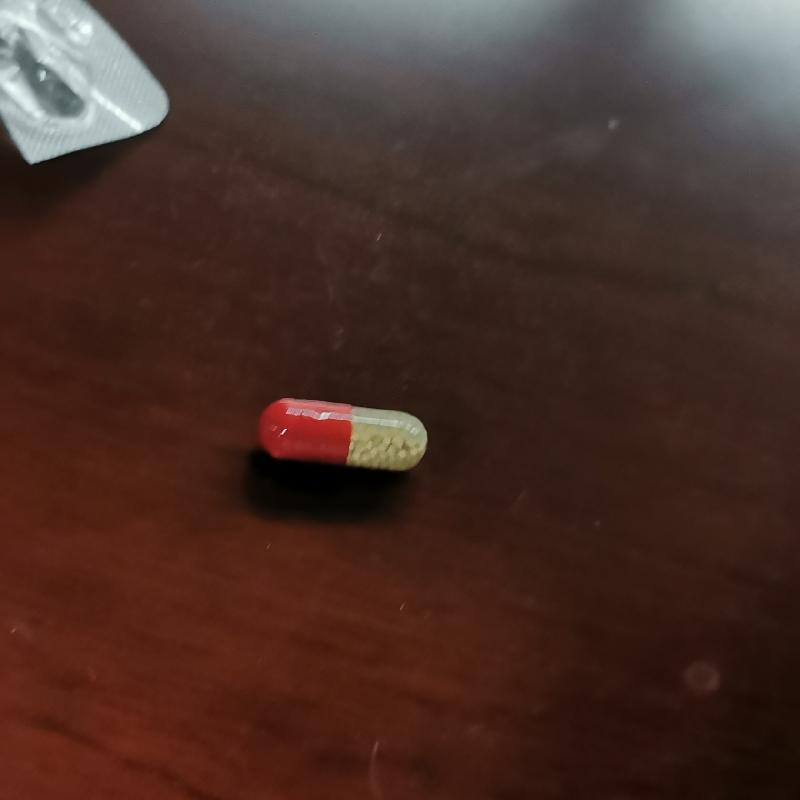pills: (252, 389, 441, 485)
